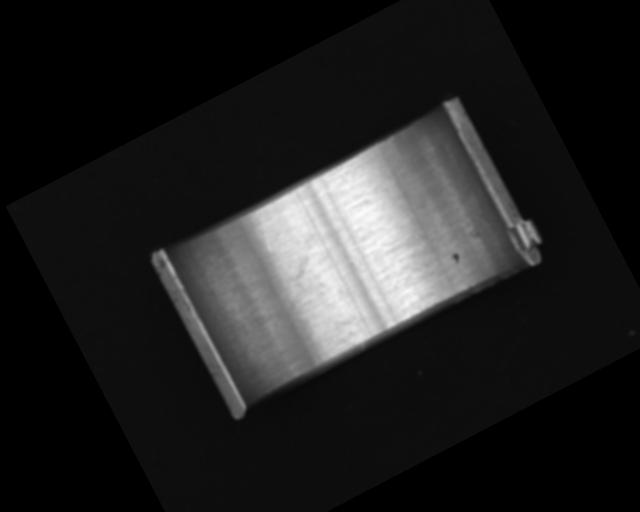blot: (268, 252, 330, 314)
bruise: (448, 250, 463, 267)
nick: (250, 210, 280, 251)
